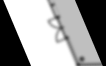double door: (46, 15, 69, 46)
